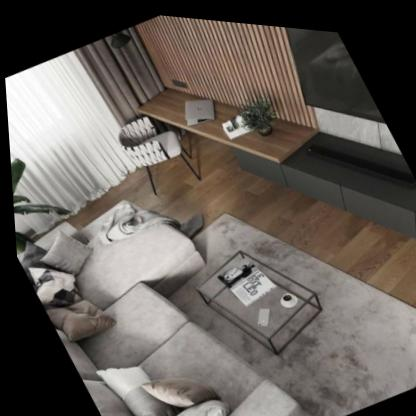Curtains: (4, 23, 165, 213)
Sofa: (39, 229, 306, 416)
Wall Panel: (136, 12, 319, 122)
Wooden floor: (65, 130, 416, 304)
